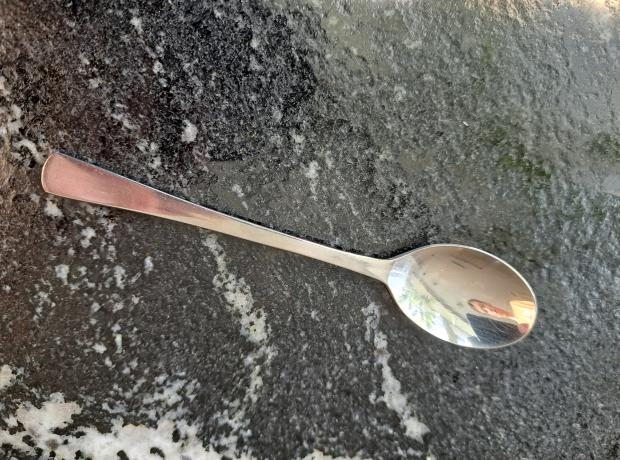metal: (40, 152, 533, 346)
